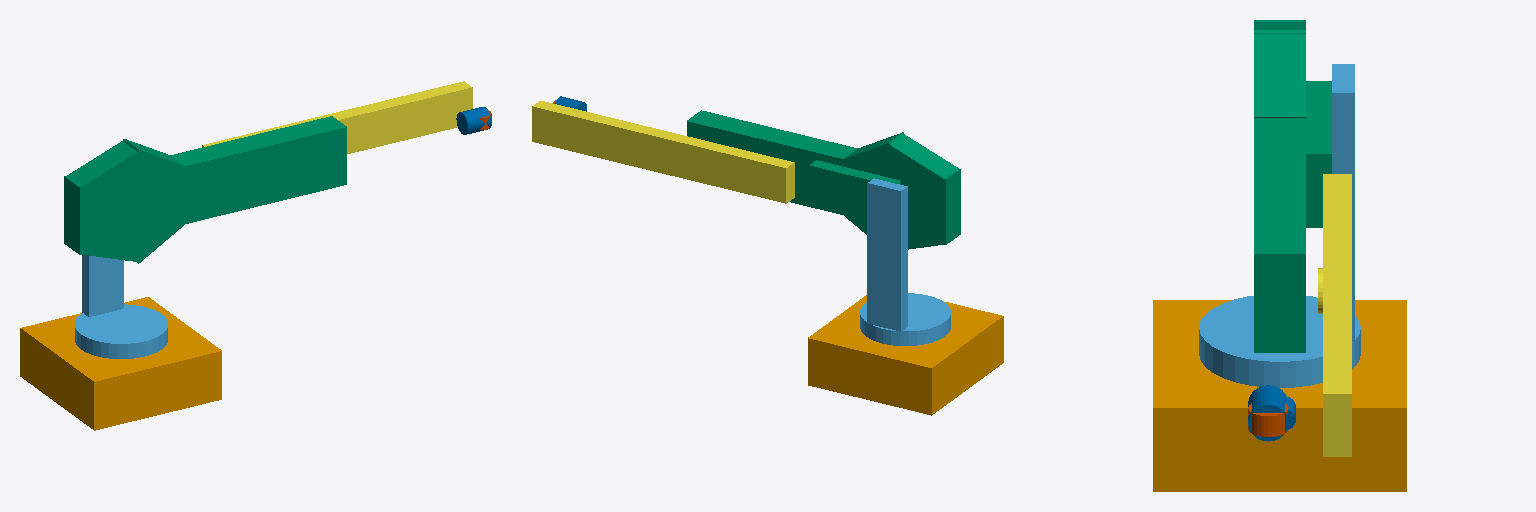
The robot description file, URDF, robot "r12":
<?xml version="1.0"?>
<robot name="r12">
    <link name="base_link">
        <visual>
            <origin rpy="0 0 0" xyz="0 0 0.04"/>
            <geometry>
                <box size="0.22 0.22 0.08"/>
            </geometry>
        </visual>
        <collision>
            <origin rpy="0 0 0" xyz="0 0 0.04"/>
            <geometry>
                <box size="0.22 0.22 0.08"/>
            </geometry>
        </collision>
    </link>
  
    <joint name="waist_joint" type="revolute">
        <parent link="base_link"/>
        <child link="waist_shoulder_link"/>
        <origin xyz="0 0 0.0925" rpy="0 0 1.57079632679"/>
        <limit lower="-3.14159" upper="3.14159" effort="0.1" velocity="0.005"/>
        <axis xyz="0 0 1"/>
    </joint>
  
    <link name="waist_shoulder_link">
        <visual>
            <origin rpy="0 0 0" xyz="0 0 0"/>
            <geometry>
                <cylinder radius="0.07" length="0.025"/>
            </geometry>
        </visual>
	<visual>
            <origin rpy="0 0 0" xyz="0.055 0 0.1315"/>
            <geometry>
                <box size="0.02 0.06 0.238"/>
            </geometry>
        </visual>
        <collision>
            <origin rpy="0 0 0" xyz="0 0 0"/>
            <geometry>
                <cylinder radius="0.07" length="0.025"/>
            </geometry>
        </collision>
	<collision>
            <origin rpy="0 0 0" xyz="0.055 0 0.1315"/>
            <geometry>
                <box size="0.02 0.06 0.238"/>
            </geometry>
        </collision>
    </link>

    <joint name="shoulder_joint" type="revolute">
        <parent link="waist_shoulder_link"/>
        <child link="shoulder_elbow_link"/>
        <origin xyz="0 -0.1 0.2105" rpy="1.57079632679 0 0"/>
        <limit lower="-3.14159" upper="3.14159" effort="0.1" velocity="0.005"/>
        <axis xyz="-1 0 0"/>
    </joint>
    
    <link name="shoulder_elbow_link">
        <visual>
            <origin rpy="0 0 0" xyz="0 0 0.045"/>
            <geometry>
                <box size="0.045 0.095 0.460"/>
            </geometry>
        </visual>
	<visual>
            <origin rpy="0 0 0" xyz="0 0 -0.1325"/>
            <geometry>
                <box size="0.045 0.11094 0.105"/>
            </geometry>
        </visual>
	<visual>
            <origin rpy="0 0 0" xyz="0.03375 0 -0.03"/>
            <geometry>
                <box size="0.0225 0.07 0.15"/>
            </geometry>
        </visual>
	<visual>
            <origin rpy="-1.0472 0 0" xyz="0 0.053659 -0.053333"/>
            <geometry>
                <box size="0.045 0.092376 0.04"/>
            </geometry>
        </visual>
	<visual>
            <origin rpy="-0.349 0 0" xyz="0 0.053 -0.12506"/>
            <geometry>
                <box size="0.045 0.043403 0.111739"/>
            </geometry>
        </visual>
	<visual>
            <origin rpy="1.0472 0 0" xyz="0 -0.053659 -0.053333"/>
            <geometry>
                <box size="0.045 0.092376 0.04"/>
            </geometry>
        </visual>
	<visual>
            <origin rpy="0.349 0 0" xyz="0 -0.053 -0.12506"/>
            <geometry>
                <box size="0.045 0.043403 0.111739"/>
            </geometry>
        </visual>
        <collision>
            <origin rpy="0 0 0" xyz="0 0 0.045"/>
            <geometry>
                <box size="0.045 0.095 0.460"/>
            </geometry>
        </collision>
	<collision>
            <origin rpy="0 0 0" xyz="0 0 -0.1325"/>
            <geometry>
                <box size="0.045 0.11094 0.105"/>
            </geometry>
        </collision>
	<collision>
            <origin rpy="-1.0472 0 0" xyz="0 0.053659 -0.053333"/>
            <geometry>
                <box size="0.045 0.092376 0.04"/>
            </geometry>
        </collision>
	<collision>
            <origin rpy="-0.349 0 0" xyz="0 0.053 -0.12506"/>
            <geometry>
                <box size="0.045 0.043403 0.111739"/>
            </geometry>
        </collision>
	<collision>
            <origin rpy="1.0472 0 0" xyz="0 -0.053659 -0.053333"/>
            <geometry>
                <box size="0.045 0.092376 0.04"/>
            </geometry>
        </collision>
	<collision>
            <origin rpy="0.349 0 0" xyz="0 -0.053 -0.12506"/>
            <geometry>
                <box size="0.045 0.043403 0.111739"/>
            </geometry>
        </collision>
	<collision>
            <origin rpy="0 0 0" xyz="0.03375 0 -0.03"/>
            <geometry>
                <box size="0.0225 0.07 0.15"/>
            </geometry>
        </collision>
    </link>
    
    <joint name="elbow_joint" type="revolute">
        <parent link="shoulder_elbow_link"/>
        <child link="elbow_hand_link"/>
        <origin xyz="0.05 0 0.25" rpy="0 0 0"/>
        <limit lower="-2.26" upper="2.26" effort="0.1" velocity="0.005"/>
        <axis xyz="-1 0 0"/>
    </joint>
    
    <link name="elbow_hand_link">
        <visual>
            <origin rpy="0 0 0" xyz="0 0 0.05"/>
            <geometry>
                <box size="0.025 0.06 0.45"/>
            </geometry>
        </visual>
        <visual>
            <origin rpy="0 -1.57079632679 0" xyz="-0.015 0 0"/>
            <geometry>
                <cylinder radius="0.02" length="0.005"/>
            </geometry>
        </visual>
        <collision>
            <origin rpy="0 0 0" xyz="0 0 0.05"/>
            <geometry>
                <box size="0.025 0.06 0.45"/>
            </geometry>
        </collision>
	<collision>
            <origin rpy="0 -1.57079632679 0" xyz="-0.015 0 0"/>
            <geometry>
                <cylinder radius="0.02" length="0.005"/>
            </geometry>
        </collision>
    </link>
    
    <joint name="hand_joint" type="fixed">
        <parent link="elbow_hand_link"/>
        <child link="hand_wrist_link"/>
        <origin xyz="-0.06 0 0.25" rpy="0 0 0"/>
        <limit lower="-2.09" upper="2.09" effort="0.1" velocity="0.005"/>
        <axis xyz="1 0 0"/>
    </joint>
    
    <link name="hand_wrist_link">
        <visual>
            <origin rpy="0 0 0" xyz="0 0 0"/>
            <geometry>
                <cylinder radius="0.0175" length="0.04"/>
            </geometry>
        </visual>
	<visual>
            <origin rpy="0 0 0" xyz="0.01375 0 0"/>
            <geometry>
                <cylinder radius="0.01" length="0.0275"/>
            </geometry>
        </visual>
        <collision>
            <origin rpy="0 0 0" xyz="0 0 0"/>
            <geometry>
                <cylinder radius="0.0175" length="0.04"/>
            </geometry>
        </collision>
	<collision>
            <origin rpy="0 0 0" xyz="0.01375 0 0"/>
            <geometry>
                <cylinder radius="0.01" length="0.0275"/>
            </geometry>
        </collision>
    </link>
    
    <joint name="pris_joint" type="prismatic">
        <parent link="hand_wrist_link"/>
        <child link="wrist_tool_link"/>
        <origin xyz="0 0 0" rpy="0 0 0"/>
        <limit lower="0" upper="0.2" effort="0.1" velocity="0.005"/>
        <axis xyz="0 1 0"/>
    </joint>
    
    <link name="wrist_tool_link">
        <visual>
            <origin rpy="1.57079632679 0 0" xyz="0 0 0.01"/>
            <geometry>
                <cylinder radius="0.0175" length="0.02"/>
            </geometry>
        </visual>
        <collision>
            <origin rpy="1.57079632679 0 0" xyz="0 0 0.01"/>
            <geometry>
                <cylinder radius="0.0175" length="0.02"/>
            </geometry>
        </collision>
    </link>
    
</robot>

--- What the picture shows (computed from the rendered views, not written in the file) ---
3 views of the same robot in one strip: view 1: azimuth 30°, elevation 25°; view 2: azimuth 150°, elevation 25°; view 3: azimuth 270°, elevation 25° (orthographic).
Robot: r12 — 6 links, 5 joints (3 revolute, 1 prismatic, 1 fixed); root link base_link; default pose: all joints at 0.
Visible links, largest first — view 1: shoulder_elbow_link, base_link, waist_shoulder_link, elbow_hand_link, hand_wrist_link; view 2: shoulder_elbow_link, base_link, elbow_hand_link, waist_shoulder_link; view 3: base_link, shoulder_elbow_link, waist_shoulder_link, elbow_hand_link, hand_wrist_link, wrist_tool_link.
Link boxes in pixels (x1,y1,x2,y2): shoulder_elbow_link: (64,116,346,263); base_link: (20,297,221,430); waist_shoulder_link: (75,255,167,358); elbow_hand_link: (202,81,472,153); hand_wrist_link: (456,107,490,134); shoulder_elbow_link: (687,110,960,249); base_link: (808,295,1003,415); elbow_hand_link: (532,101,794,203); waist_shoulder_link: (860,178,950,345); base_link: (1153,300,1406,491); shoulder_elbow_link: (1254,20,1331,352); waist_shoulder_link: (1199,64,1360,387); elbow_hand_link: (1318,174,1351,456); hand_wrist_link: (1248,385,1295,441); wrist_tool_link: (1248,403,1288,436).
Bounding box of the posed robot: 0.7375 × 0.22 × 0.3971 m (x, y, z).
Geometry: primitives only (box / cylinder / sphere), no mesh files.